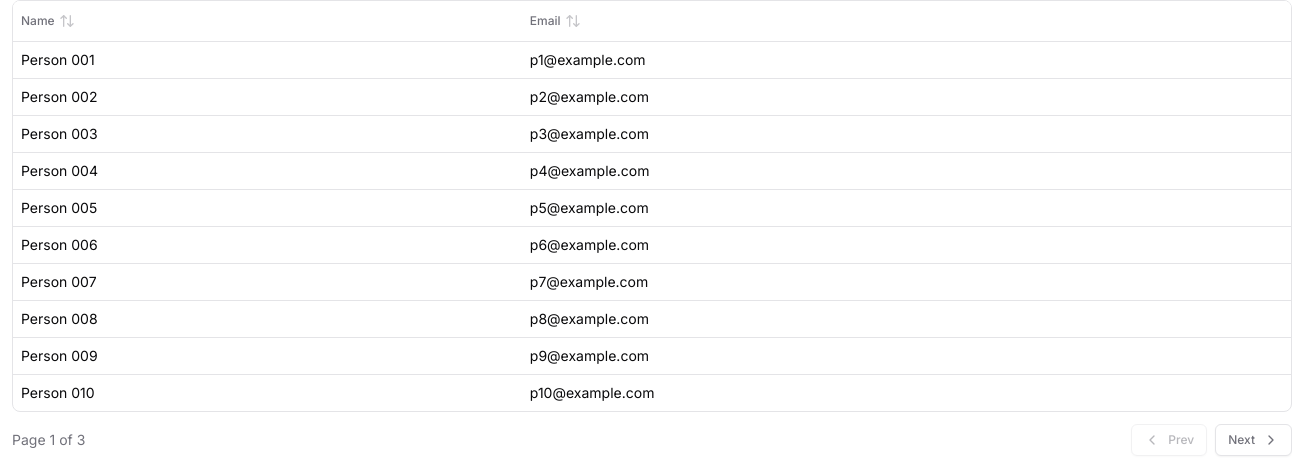
DataTable › paginates: pageSize rows per page, Next/Prev navigation
The image size is (1304, 474).
Expected: the text "Page 1 of 3" is shown, [12,430,85,450]
Expected: the text "Person 001" is shown, [13,41,522,78]
Click the button with aria-label "Next page".
click(1254, 440)  # box [1215,424,1292,456]
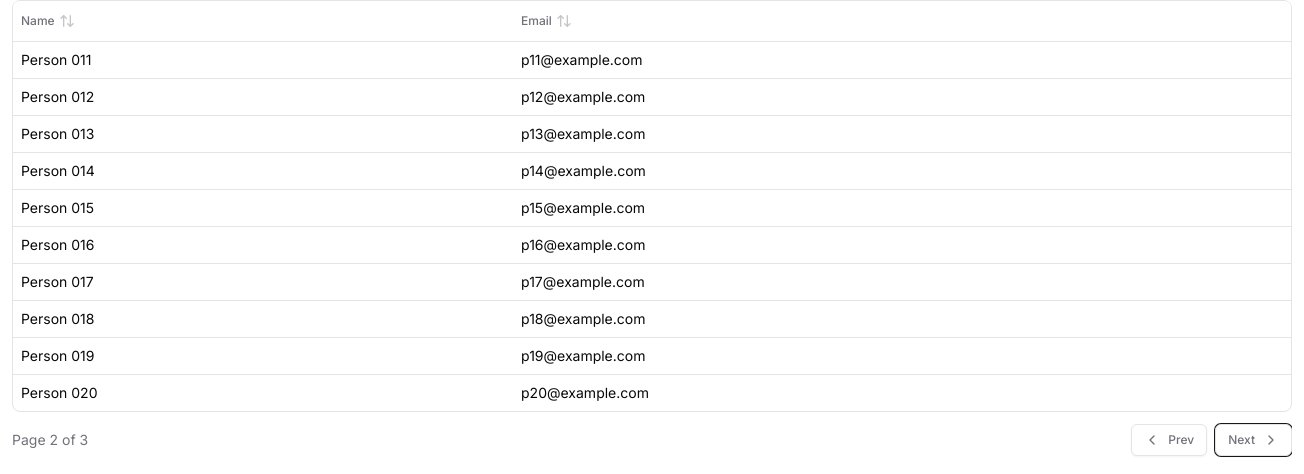
Expected: the text "Page 2 of 3" is shown, [12,430,88,450]
Expected: the text "Person 011" is shown, [13,41,513,78]
Expected: the text "Person 001" is gone
Click the button with aria-label "Next page".
click(1254, 440)  # box [1215,424,1292,456]
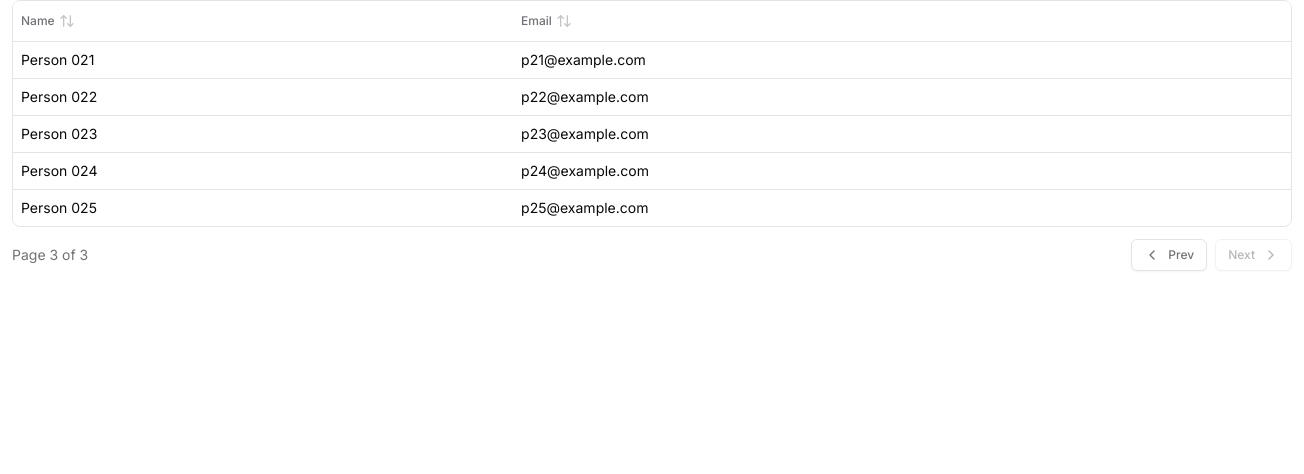
Expected: the text "Page 3 of 3" is shown, [12,244,88,264]
Expected: the button with aria-label "Next page" is disabled, [1215,238,1292,270]
